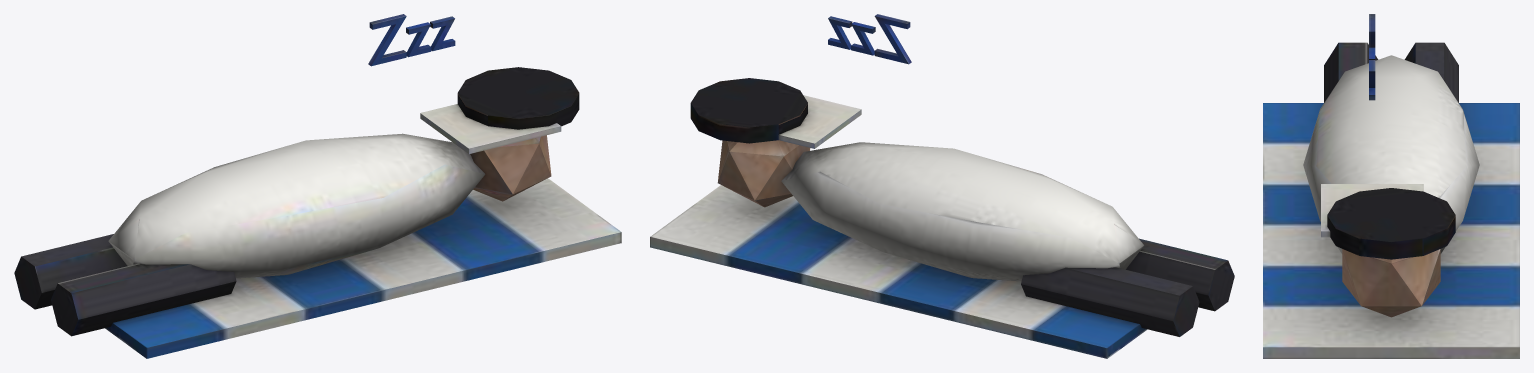
File: dormilon.glb
The picture shows the model from 3 angles, left to right: view 1: azimuth 30°, elevation 25°; view 2: azimuth 150°, elevation 25°; view 3: azimuth 270°, elevation 25°; orthographic projection. The views are drawn at different scales.
Parts seen in each view (by area): view 1: dormilon; view 2: dormilon; view 3: dormilon.
Boxes of the visible parts, x1=… form: dormilon: x1=14, y1=14, x2=621, y2=358; dormilon: x1=650, y1=14, x2=1234, y2=358; dormilon: x1=1263, y1=14, x2=1519, y2=358.
Size of the model in its own units: 1.99 by 0.834 by 0.8.
1 material, 1 textured.
